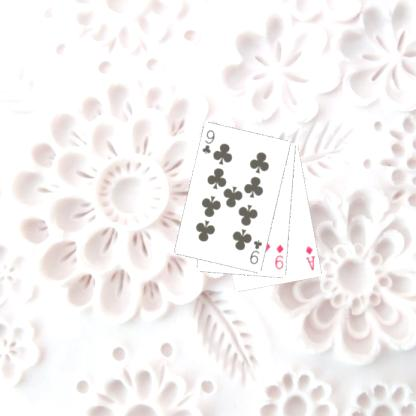9C: (247, 237, 264, 266), (200, 127, 216, 156)
9D: (272, 242, 285, 271)
AD: (302, 244, 316, 272)
